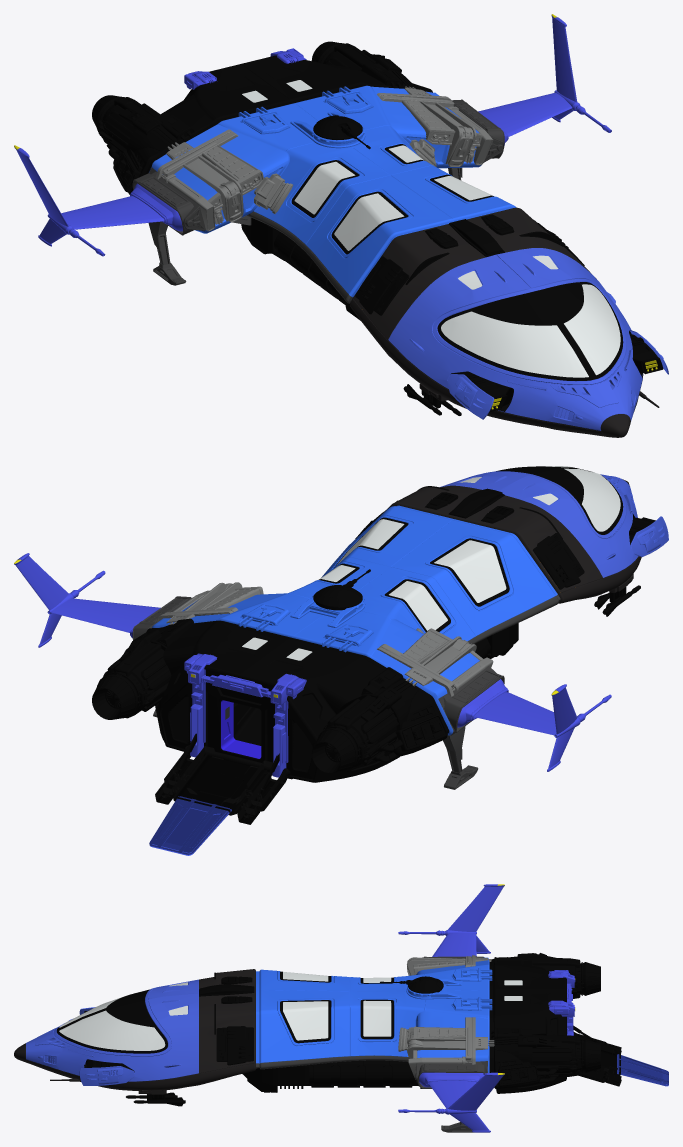
File: Spaceship.fbx
3 views of the same model, one above another, from view 1: azimuth 30°, elevation 25°; view 2: azimuth 150°, elevation 25°; view 3: azimuth 270°, elevation 25° (orthographic). The views are drawn at different scales.
Visible parts, largest first — view 1: Vanguard_104801_skinInstance; view 2: Vanguard_104801_skinInstance; view 3: Vanguard_104801_skinInstance.
Part boxes in pixels (<box>): Vanguard_104801_skinInstance: <box>14,14,668,437</box>; Vanguard_104801_skinInstance: <box>14,466,668,855</box>; Vanguard_104801_skinInstance: <box>14,884,668,1132</box>.
Size of the model in its own units: 2743 by 680 by 3986.
